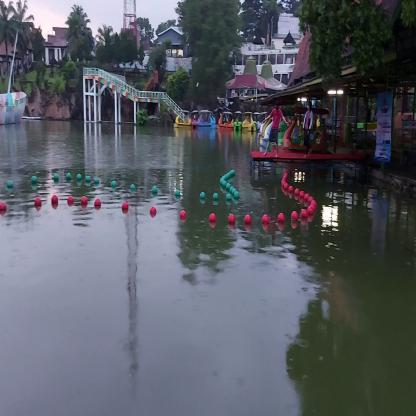green_buoy: (7, 181, 13, 190), (234, 191, 240, 200), (200, 191, 206, 200), (226, 193, 232, 202), (32, 176, 37, 186), (152, 184, 157, 194), (53, 174, 59, 182), (76, 174, 82, 182), (213, 193, 219, 201), (175, 190, 181, 197), (66, 173, 71, 181), (94, 177, 99, 184), (130, 183, 135, 190), (86, 175, 90, 183), (112, 181, 115, 188)
red_buoy: (244, 214, 252, 226), (278, 213, 286, 224), (307, 208, 314, 220), (209, 212, 216, 224), (52, 195, 58, 206), (310, 203, 316, 214), (292, 211, 298, 222), (229, 214, 235, 225), (81, 196, 87, 206), (301, 210, 307, 220), (262, 214, 268, 224), (150, 206, 157, 214), (304, 194, 309, 205), (0, 202, 6, 211), (122, 202, 128, 211), (180, 210, 186, 219), (95, 198, 100, 208), (300, 191, 304, 203), (68, 197, 73, 206), (35, 198, 40, 207), (296, 190, 300, 199)
